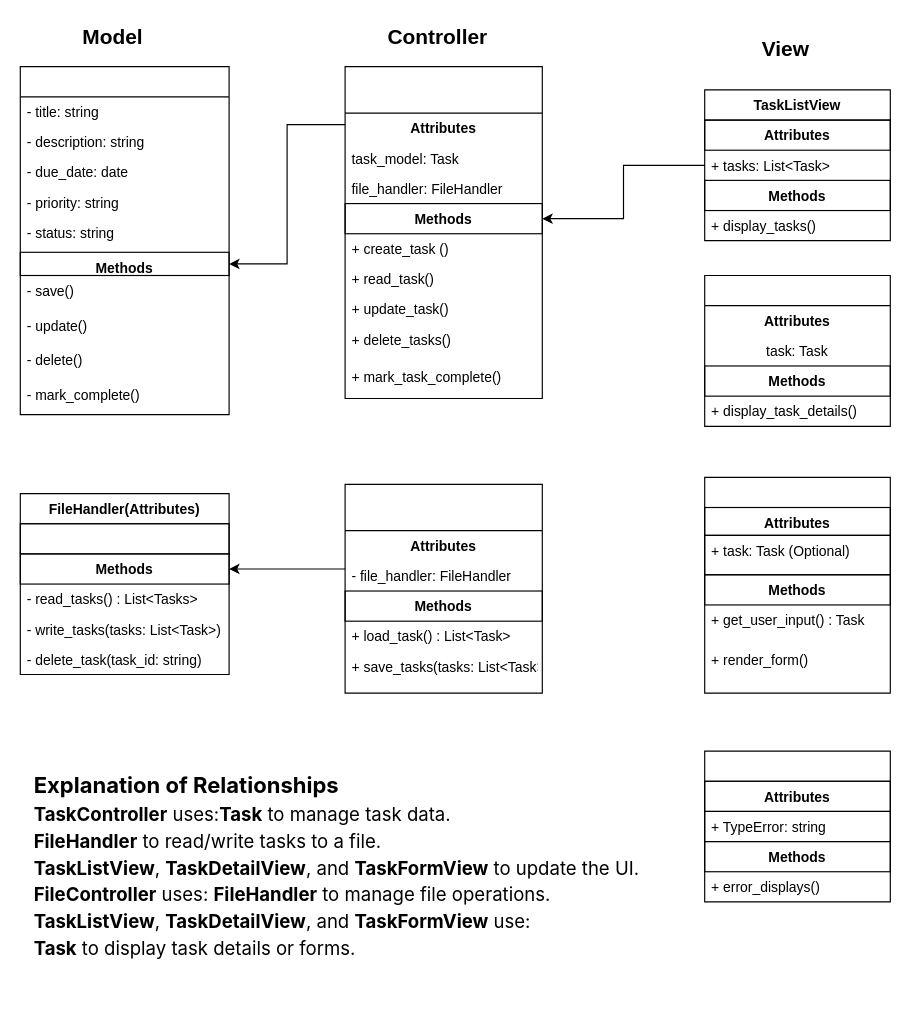
The diagram is 911 pixels wide and 1017 high, and some of its shapes have lost their labels. The box of each missing label's shape, as (x1, y1, x2, y2) in pixels:
- file_path: string: (19, 523, 229, 554)
ErrorView: (704, 750, 890, 902)
FileControler: (344, 483, 542, 693)
Task (Attributes): (19, 66, 229, 415)
TaskController: (344, 66, 542, 398)
TaskDetailView: (704, 274, 890, 426)
TaskFormView: (704, 476, 890, 693)
